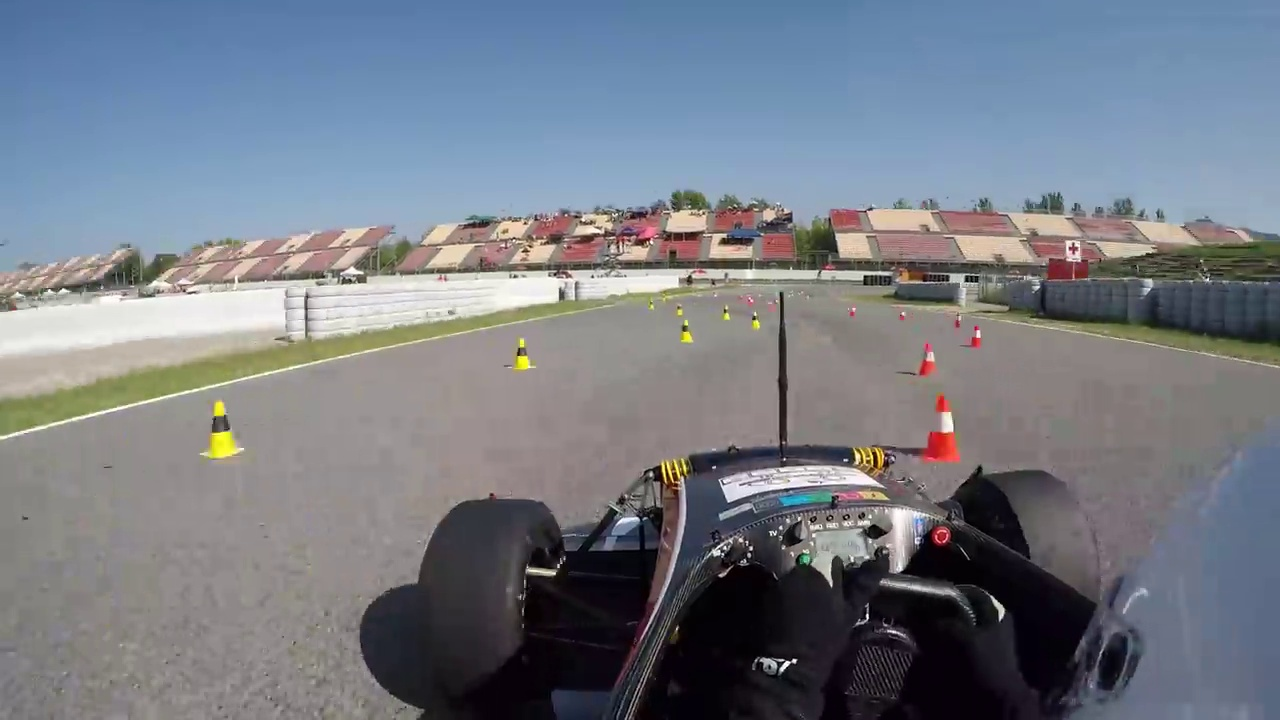Cone: (202, 399, 247, 463), (923, 394, 962, 461), (511, 334, 536, 372), (918, 340, 939, 376)
